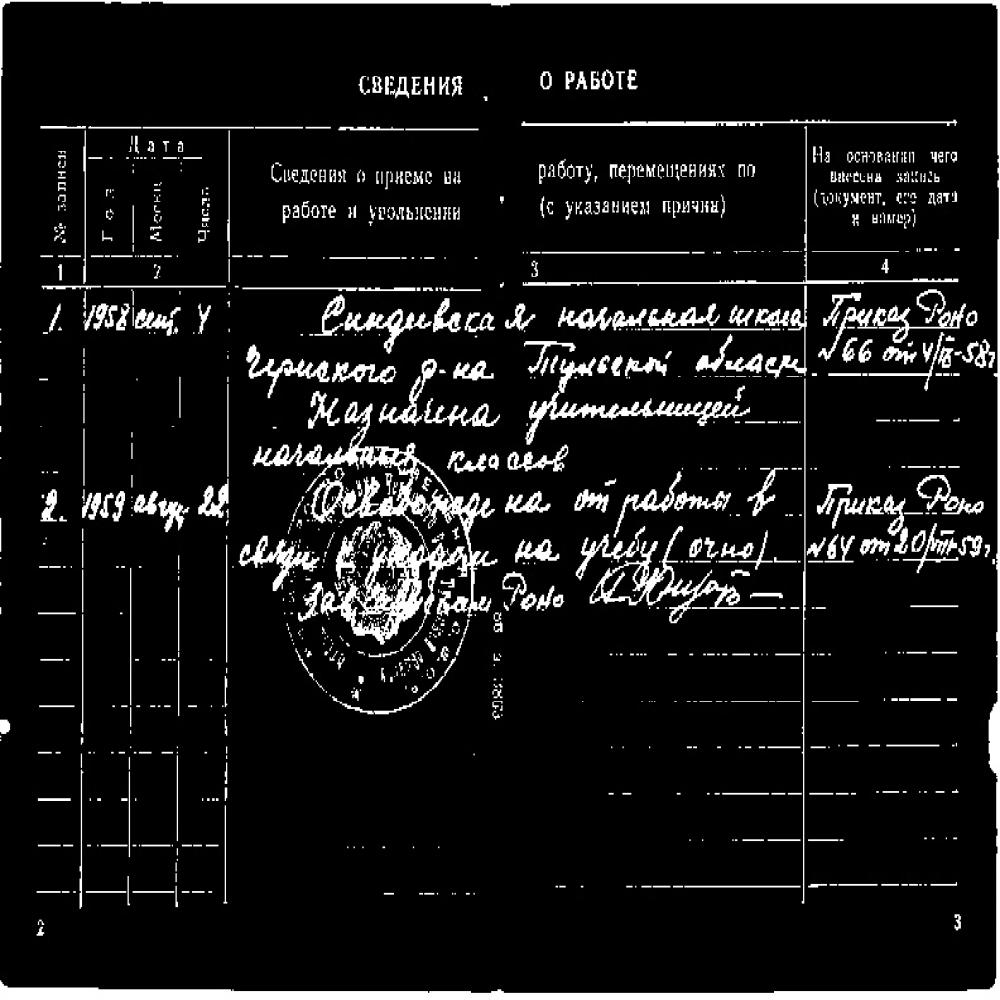rus: (500, 466, 778, 524), (517, 338, 802, 394), (351, 66, 650, 106), (242, 342, 495, 386), (496, 522, 770, 562), (41, 474, 233, 530), (552, 289, 802, 327), (314, 287, 538, 329), (813, 467, 983, 522), (44, 284, 216, 338), (812, 168, 961, 226), (804, 519, 995, 564), (811, 329, 1000, 373), (258, 156, 466, 195), (279, 194, 463, 235), (539, 190, 727, 230), (294, 390, 498, 425), (809, 289, 979, 327), (532, 152, 763, 179), (527, 397, 750, 423), (445, 442, 582, 478), (808, 136, 966, 165), (501, 570, 578, 616), (235, 537, 326, 570)
